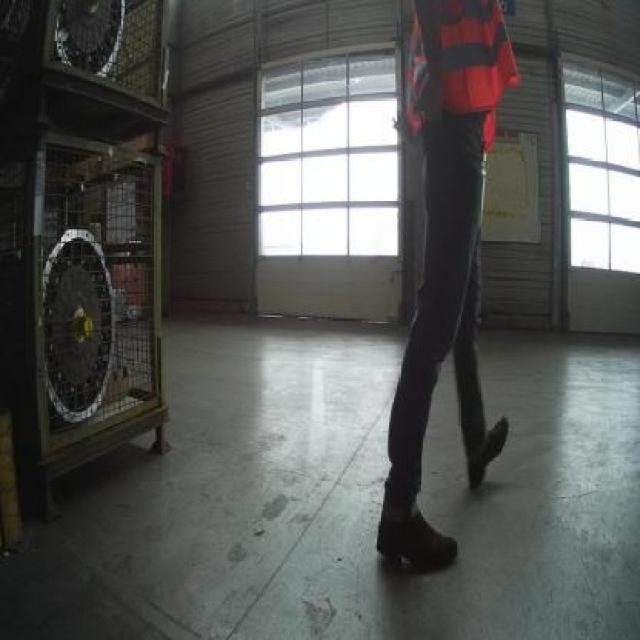floor: (0, 317, 637, 637)
